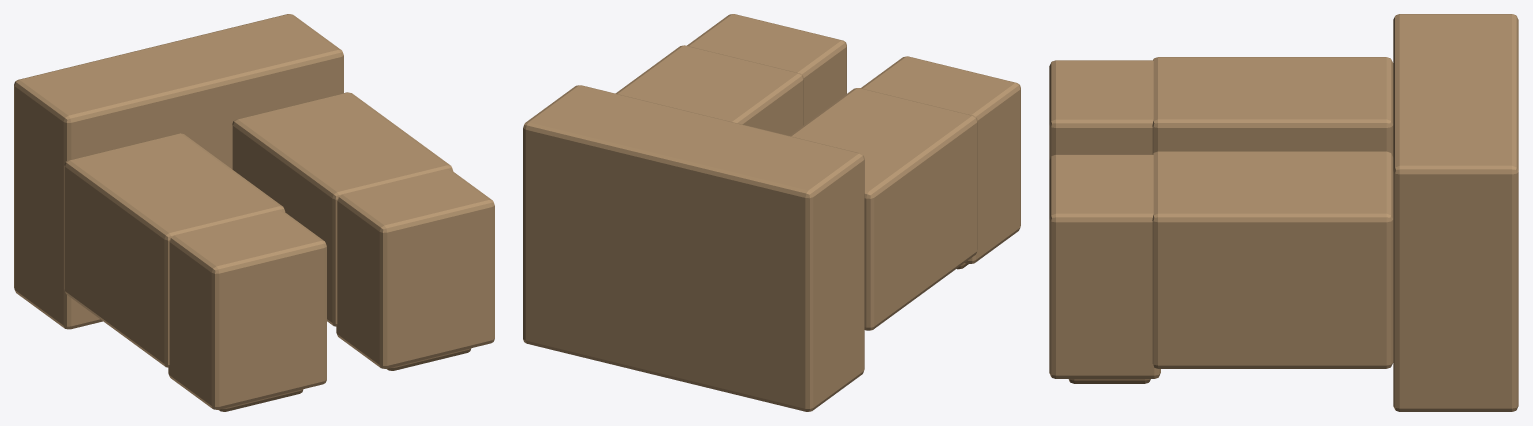
The model's file is wood_leggings_held.gltf.
3 renders of one model, left to right at view 1: azimuth 30°, elevation 25°; view 2: azimuth 150°, elevation 25°; view 3: azimuth 270°, elevation 25°, orthographic. The views are drawn at different scales.
Parts seen in each view (by area): view 1: armor_wood_leggings_held; view 2: armor_wood_leggings_held; view 3: armor_wood_leggings_held.
Part boxes in pixels (x1,y1,x2,y2): armor_wood_leggings_held: [14, 14, 494, 411]; armor_wood_leggings_held: [523, 14, 1020, 411]; armor_wood_leggings_held: [1049, 14, 1518, 411].
Size of the model in its own units: 0.1632 by 0.122 by 0.2.
